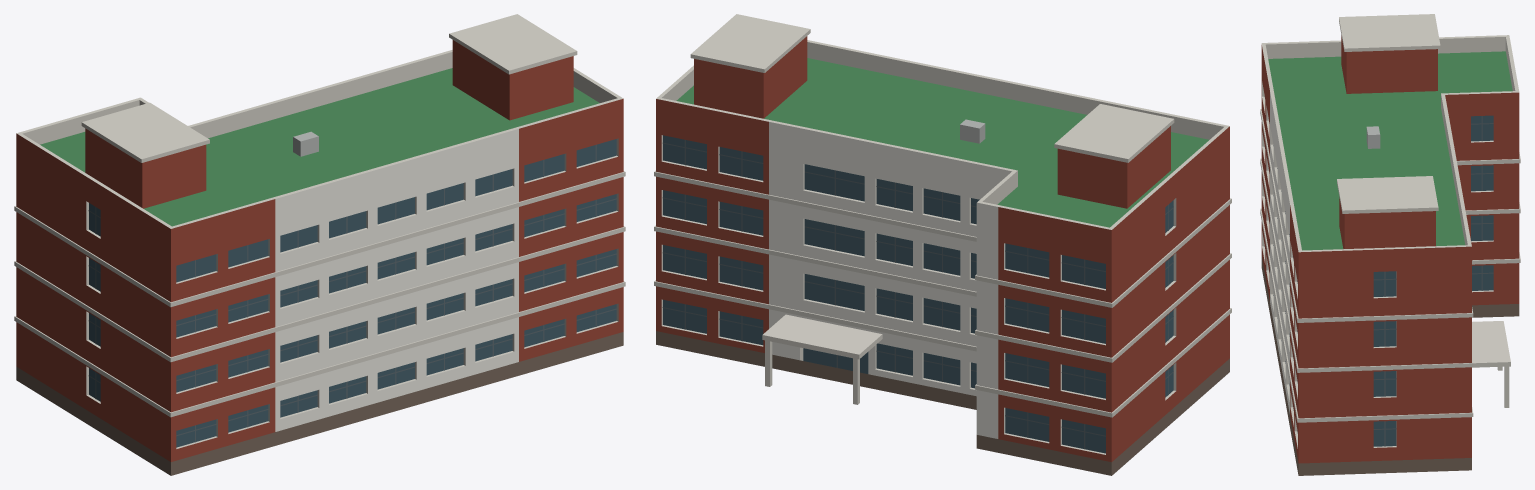
3 renders of one model, left to right at view 1: azimuth 30°, elevation 25°; view 2: azimuth 150°, elevation 25°; view 3: azimuth 270°, elevation 25°, orthographic. The views are drawn at different scales.
Visible parts, largest first — view 1: wing3__brick, wing3__wall-plaster, wing3__trim-concrete, wing3__glass, wing3__roof, wing3__base-stone, wing3__frame; view 2: wing3__brick, wing3__wall-plaster, wing3__trim-concrete, wing3__glass, wing3__roof, wing3__base-stone, wing3__canopy-concrete, wing3__frame; view 3: wing3__brick, wing3__roof, wing3__trim-concrete, wing3__glass, wing3__base-stone, wing3__wall-plaster, wing3__canopy-concrete, wing3__frame, wing3__equipment.
Boxes of the visible parts, x1,y1,x2,y2 form: wing3__brick: (16, 40, 623, 461); wing3__wall-plaster: (275, 129, 518, 431); wing3__trim-concrete: (14, 14, 625, 448); wing3__glass: (89, 139, 616, 447); wing3__roof: (40, 68, 599, 226); wing3__base-stone: (16, 332, 623, 475); wing3__frame: (88, 144, 616, 442); wing3__brick: (656, 36, 1229, 462); wing3__wall-plaster: (769, 122, 1011, 438); wing3__trim-concrete: (654, 14, 1231, 454); wing3__glass: (663, 135, 1173, 453); wing3__roof: (676, 58, 1209, 227); wing3__base-stone: (656, 331, 1229, 475); wing3__canopy-concrete: (762, 314, 882, 404); wing3__frame: (662, 140, 1173, 449); wing3__brick: (1261, 35, 1519, 463); wing3__roof: (1268, 51, 1512, 250); wing3__trim-concrete: (1260, 14, 1520, 448); wing3__glass: (1264, 96, 1493, 446); wing3__base-stone: (1261, 256, 1519, 475); wing3__wall-plaster: (1270, 92, 1289, 413); wing3__canopy-concrete: (1472, 321, 1510, 407); wing3__frame: (1373, 116, 1493, 446); wing3__equipment: (1366, 126, 1380, 148).
Bounding box in the file's own units: 33.78 × 18.45 × 17.05.
